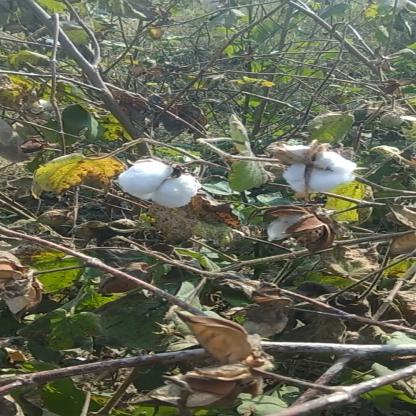cotton_ready: (84, 150, 214, 220), (274, 144, 360, 199)
